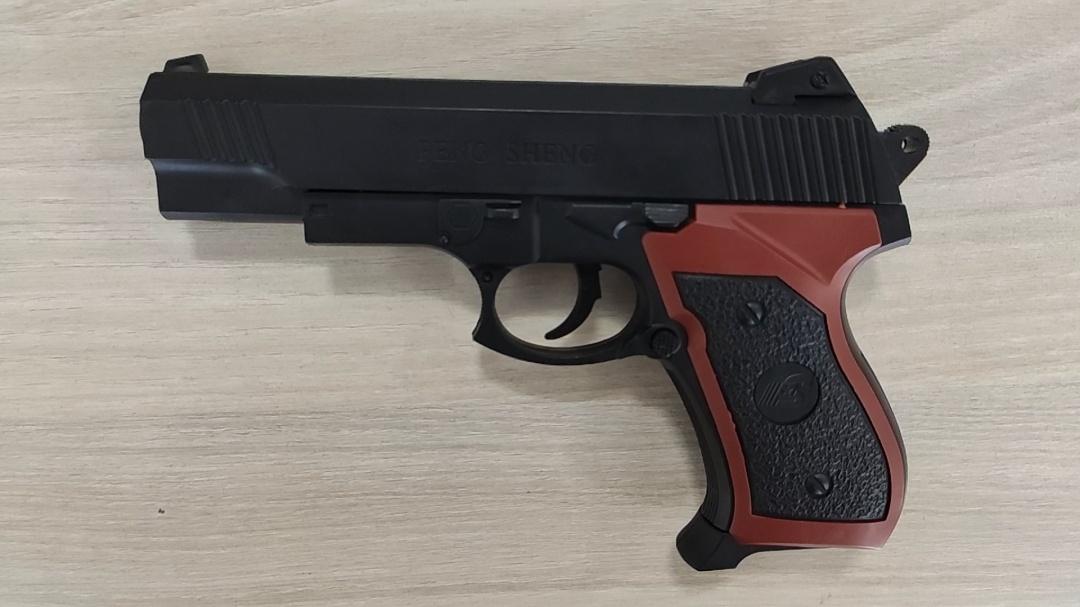gun: (412, 222, 564, 312)
